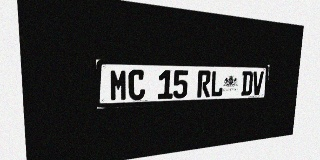1: (158, 70, 173, 99)
5: (173, 70, 188, 99)
C: (128, 69, 145, 100)
D: (241, 71, 253, 96)
L: (210, 71, 224, 97)
M: (110, 69, 128, 101)
R: (197, 70, 211, 98)
V: (252, 71, 264, 95)
